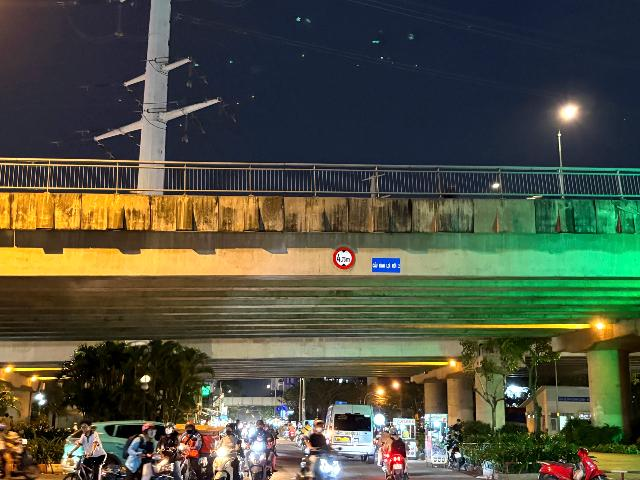han-che-chieu-cao: (332, 246, 356, 269)
